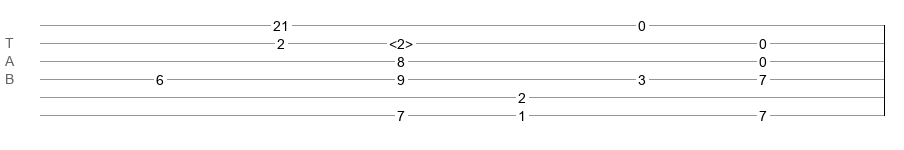0: (638, 18, 646, 28), (759, 36, 767, 46), (759, 54, 767, 64)
1: (518, 108, 526, 118)
2: (277, 36, 285, 46), (518, 90, 526, 100)
21: (273, 18, 289, 28)
3: (638, 72, 646, 82)
6: (156, 72, 164, 82)
7: (397, 108, 405, 118), (759, 72, 767, 82), (759, 108, 767, 118)
8: (397, 54, 405, 64)
9: (397, 72, 405, 82)
harmonic: (389, 36, 413, 46)
